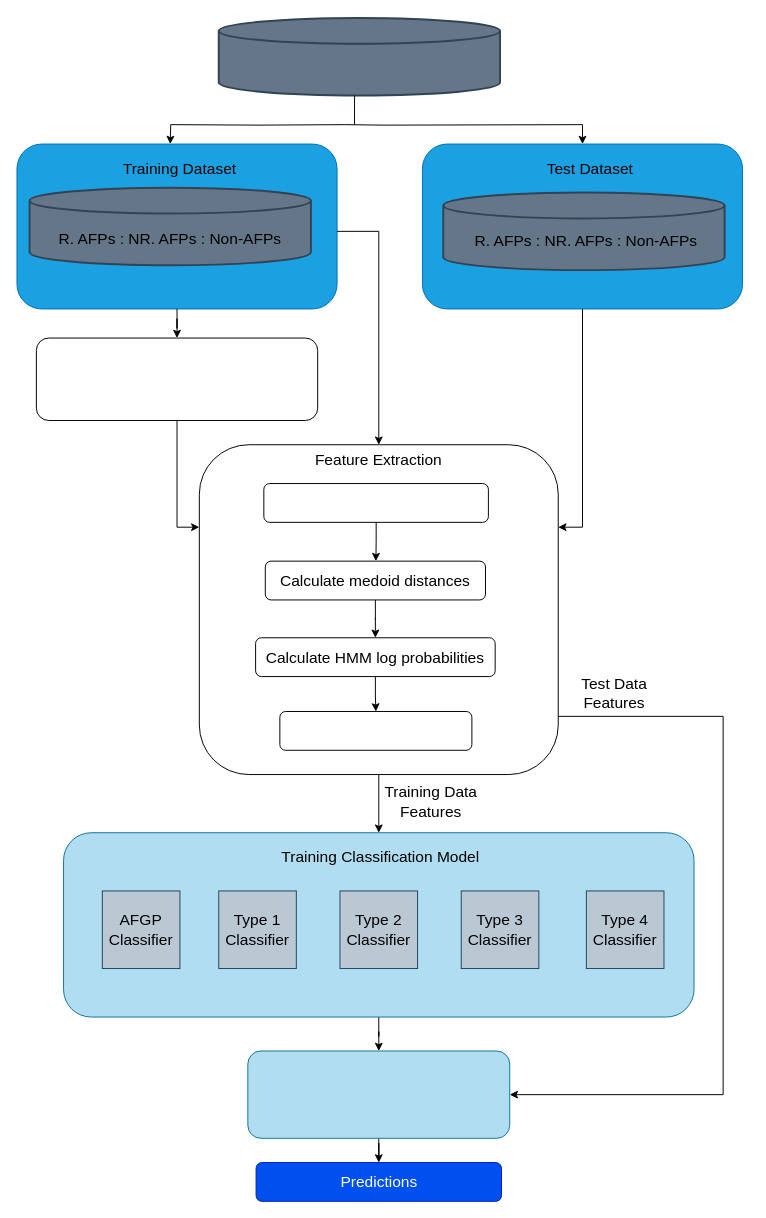
Image size: 766x1218. Some labels were removed from this diagram. Each missing label, with the centre of its shape:
Align each AFP type, Calculate medoids, Identify motifs: the point at 176,378
Align sequence on AFP types: the point at 375,502
Calculate other features: the point at 375,730
Protein Sequences (Fasta) R. AFPs : NR. AFPs : Non-AFPs: the point at 359,56
Trained Models: the point at 378,1094
